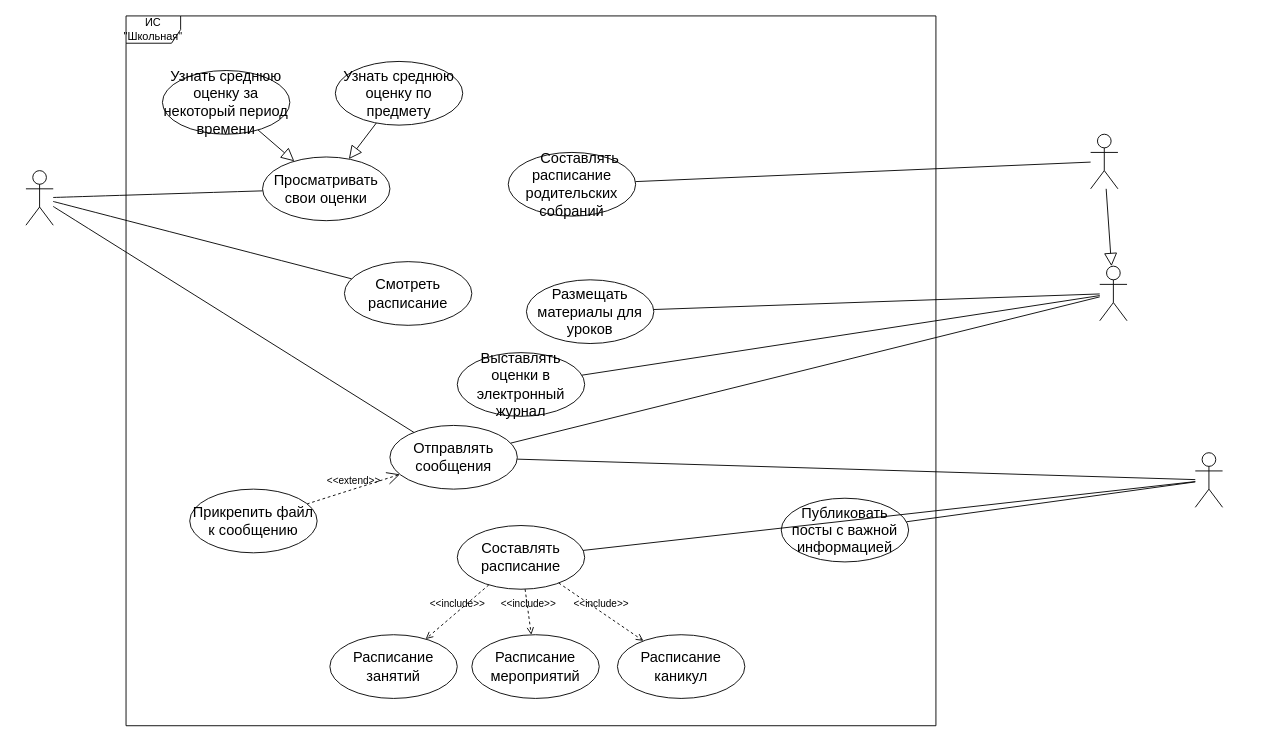
The diagram is 1277 pixels wide and 742 high, and some of its shapes have lost their labels. The centre of each missing label's shape, as x and y in pixels:
Зам. директора: the point at 1208,479
Кл. руководитель: the point at 1104,161
Преподаватель: the point at 1113,293
Ученик: the point at 39,197
